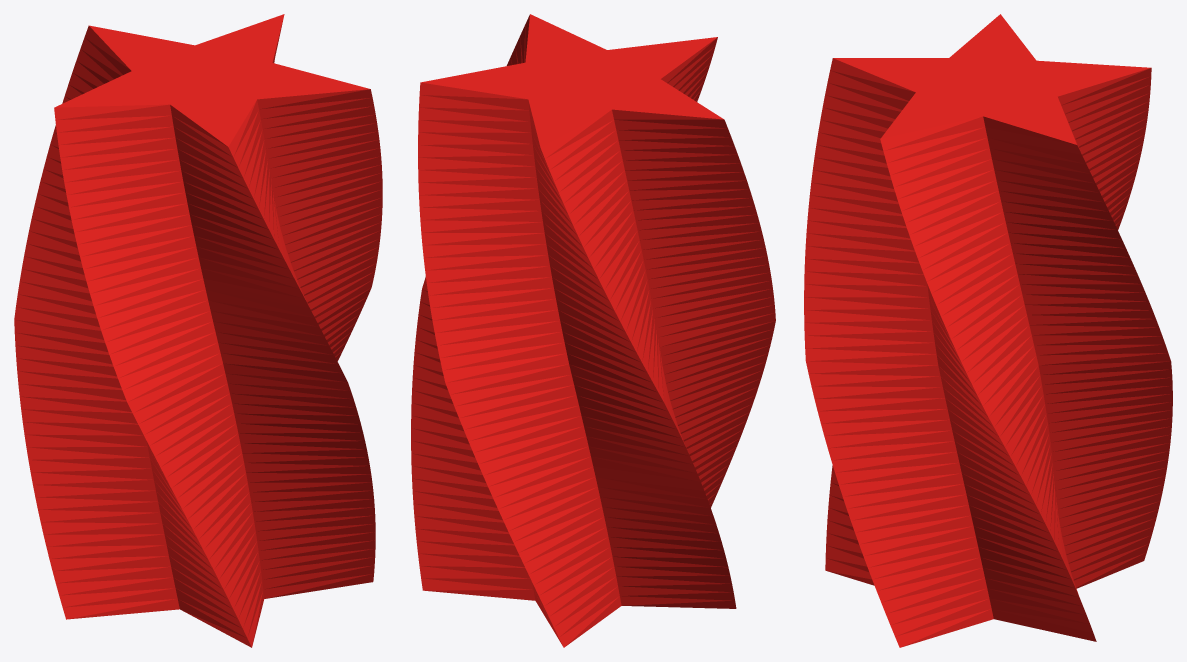
File: star.obj
The picture shows the model from 3 angles, left to right: view 1: azimuth 30°, elevation 25°; view 2: azimuth 150°, elevation 25°; view 3: azimuth 270°, elevation 25°; orthographic projection.
Visible parts, largest first — view 1: star; view 2: star; view 3: star.
Part boxes in pixels (x1=…): star: x1=14, y1=14, x2=382, y2=647; star: x1=411, y1=14, x2=775, y2=647; star: x1=804, y1=14, x2=1172, y2=647.
Bounding box in the file's own units: 1.71 × 2.6 × 1.73.
